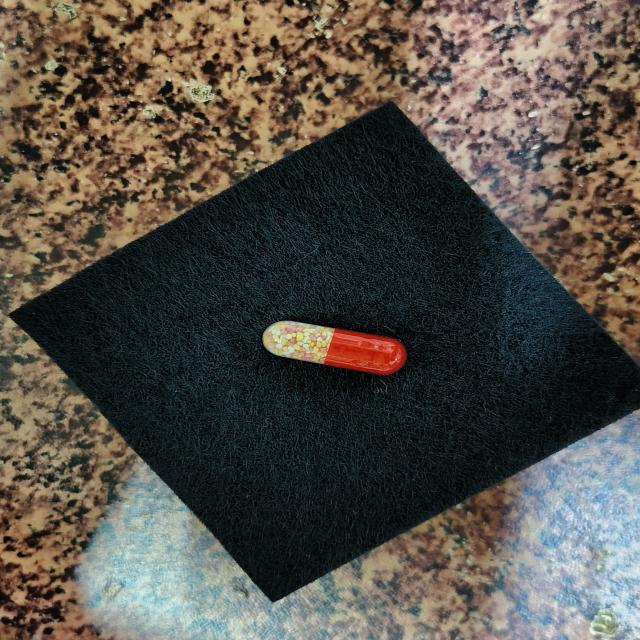Intact Capsule: (262, 320, 407, 375)
